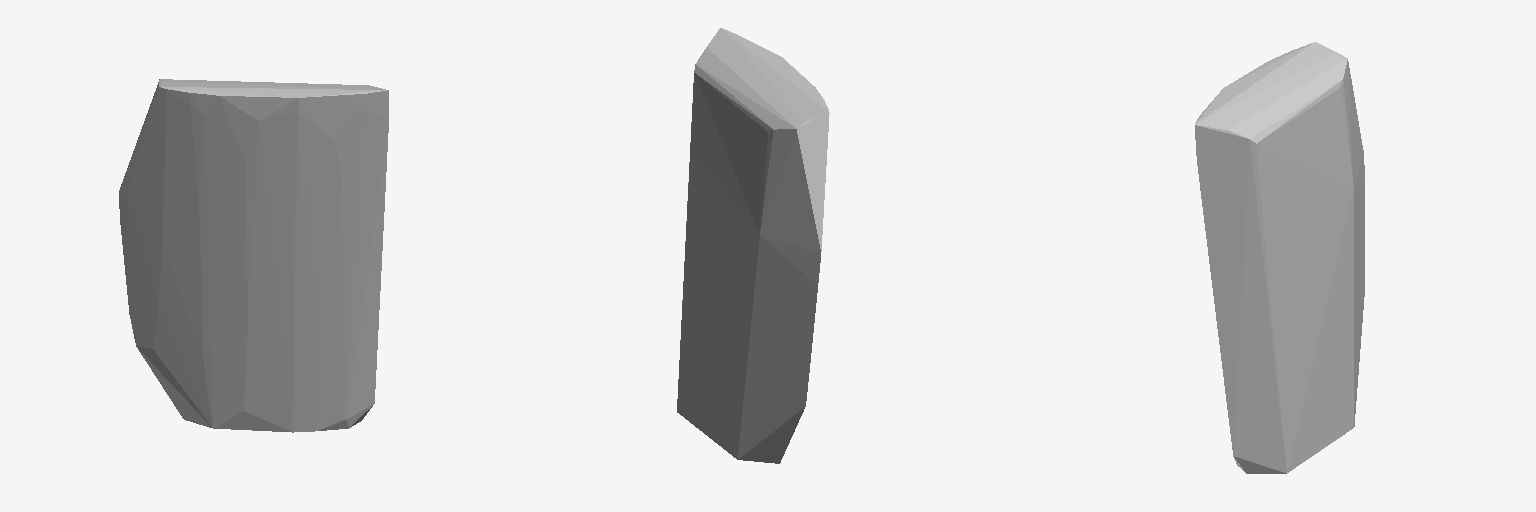
Rendered from trash_bin_collision_2.obj.
The picture shows the model from 3 angles: view 1: azimuth 30°, elevation 25°; view 2: azimuth 150°, elevation 25°; view 3: azimuth 270°, elevation 25°; orthographic projection.
Bounding box in the file's own units: 0.0675 × 0.1187 × 0.0524.